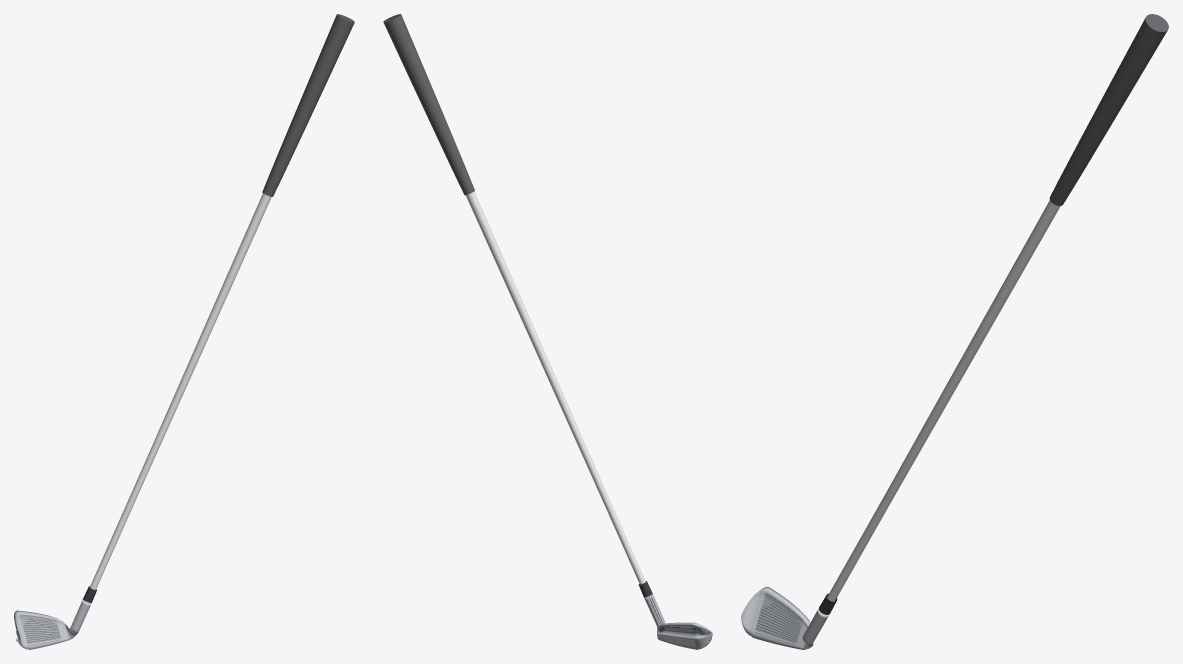
Rendered from 201t-mkii.glb.
3 views of the same model, side by side, from view 1: azimuth 30°, elevation 25°; view 2: azimuth 150°, elevation 25°; view 3: azimuth 330°, elevation 25° (orthographic). The views are drawn at different scales.
Parts seen in each view (by area): view 1: Shaft_AR, Grip_AR, 201t-mkii; view 2: Shaft_AR, Grip_AR, 201t-mkii; view 3: Shaft_AR, Grip_AR, 201t-mkii.
Part boxes in pixels (left/top/right/bottom): Shaft_AR: left=89, top=193, right=271, bottom=590; Grip_AR: left=262, top=14, right=354, bottom=196; 201t-mkii: left=14, top=599, right=91, bottom=649; Shaft_AR: left=466, top=192, right=645, bottom=584; Grip_AR: left=383, top=14, right=474, bottom=195; 201t-mkii: left=644, top=594, right=712, bottom=649; Shaft_AR: left=827, top=200, right=1060, bottom=601; Grip_AR: left=1049, top=14, right=1168, bottom=205; 201t-mkii: left=741, top=587, right=829, bottom=649.
Size of the model in its own units: 0.5197 by 0.8393 by 0.0505.
4 materials, 1 textured.
